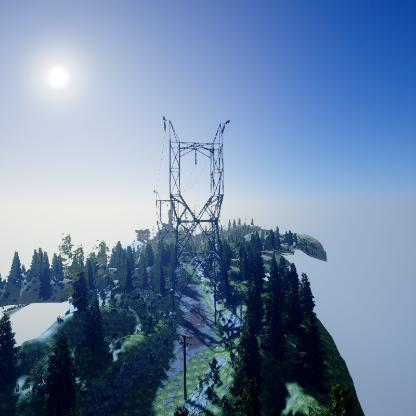tower: (159, 114, 233, 327)
